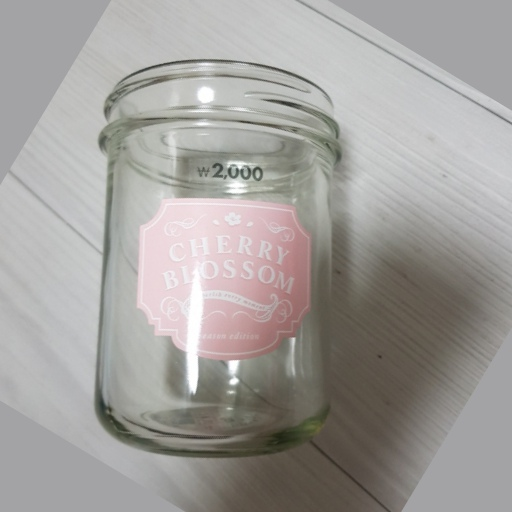Glass_5: (87, 61, 341, 452)
